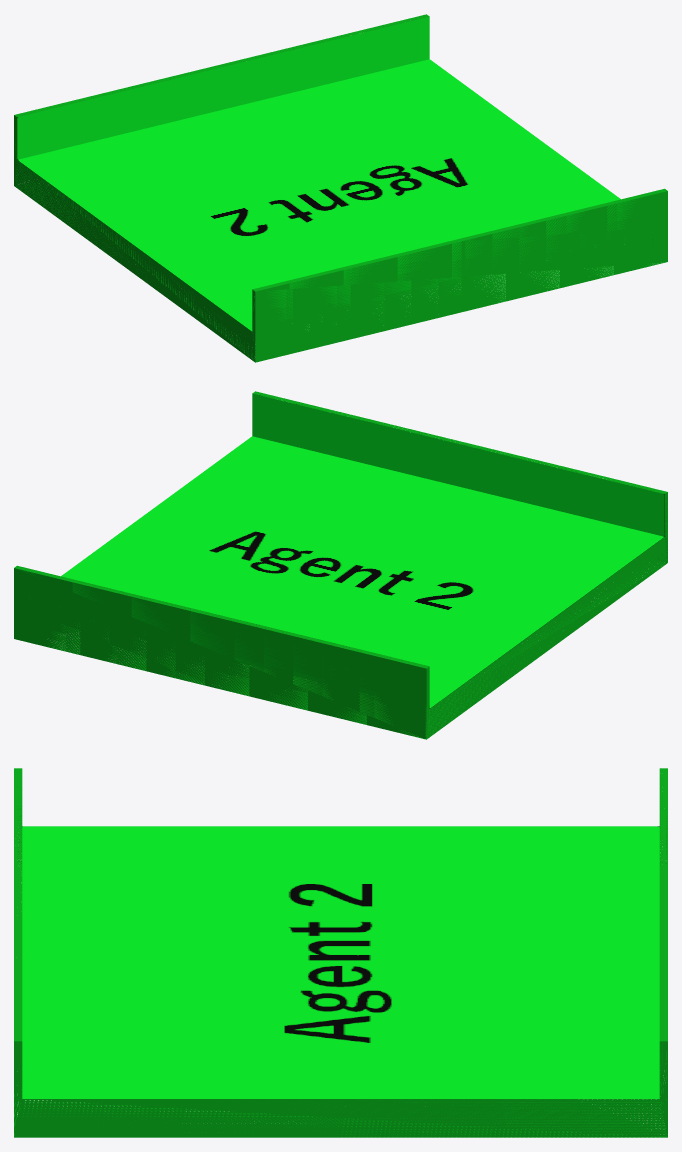
File: self_play_stage_robot_2.dae
3 renders of one model, top to bottom at view 1: azimuth 30°, elevation 25°; view 2: azimuth 150°, elevation 25°; view 3: azimuth 270°, elevation 25°, orthographic. The views are drawn at different scales.
Visible parts, largest first — view 1: selfplay_stage_half v2; view 2: selfplay_stage_half v2; view 3: selfplay_stage_half v2.
Part boxes in pixels (left/top/right/bottom): selfplay_stage_half v2: left=14, top=14, right=667, bottom=362; selfplay_stage_half v2: left=14, top=391, right=667, bottom=739; selfplay_stage_half v2: left=14, top=768, right=667, bottom=1137.
Bounding box in the file's own units: 1.52 × 1.54 × 0.25.
Materials: 1 (1 with a texture image).
